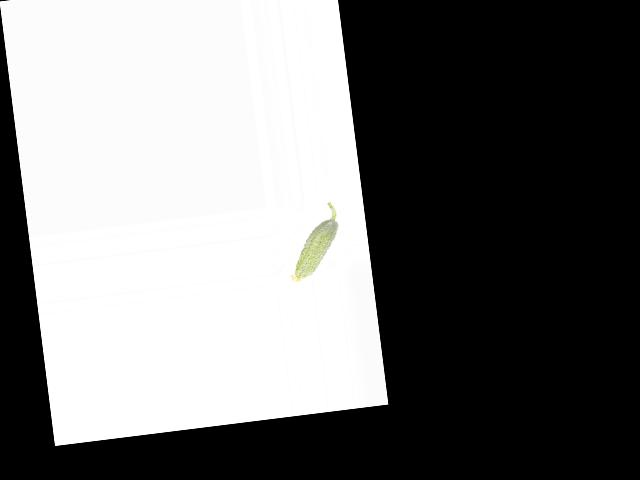cucumber: (281, 202, 345, 283)
